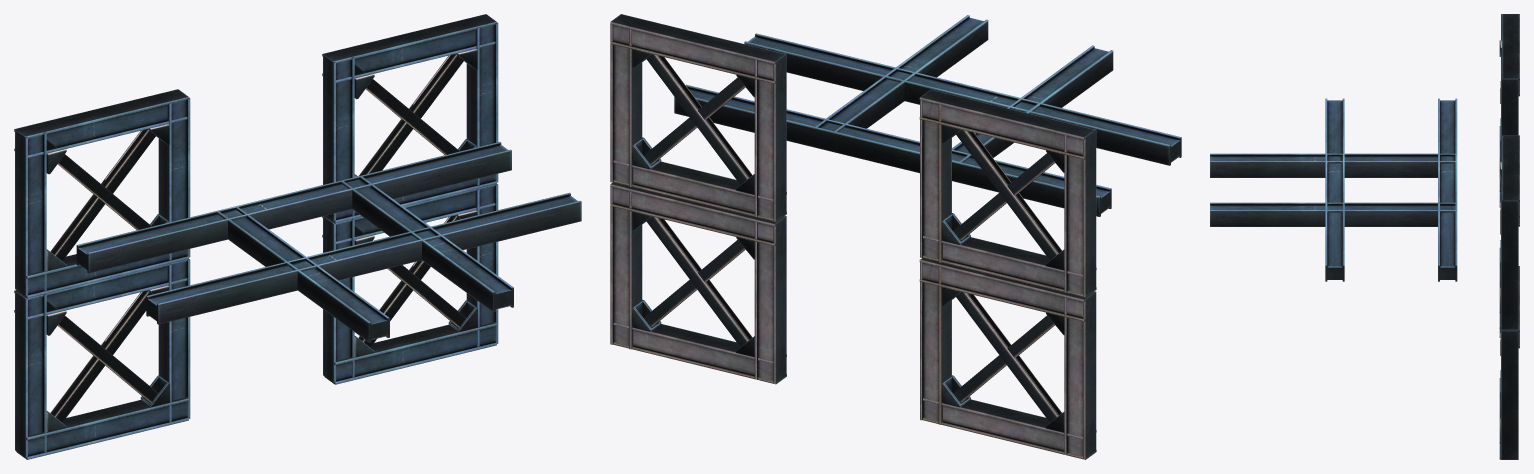
Rendered from beams_037.fbx.
3 renders of one model, left to right at view 1: azimuth 30°, elevation 25°; view 2: azimuth 150°, elevation 25°; view 3: azimuth 270°, elevation 25°, orthographic. The views are drawn at different scales.
Visible parts, largest first — view 1: Beam_Box_Combined__1_; view 2: Beam_Box_Combined__1_; view 3: Beam_Box_Combined__1_.
Boxes of the visible parts, x1,y1,x2,y2 form: Beam_Box_Combined__1_: (14, 14, 581, 459); Beam_Box_Combined__1_: (610, 14, 1181, 459); Beam_Box_Combined__1_: (1210, 14, 1519, 459).
Bounding box in the file's own units: 7.87 × 5.12 × 5.53.
Materials: 1 (1 with a texture image).
